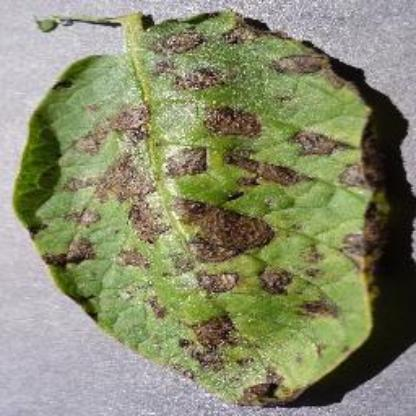Early-Blight: (14, 7, 400, 408)
